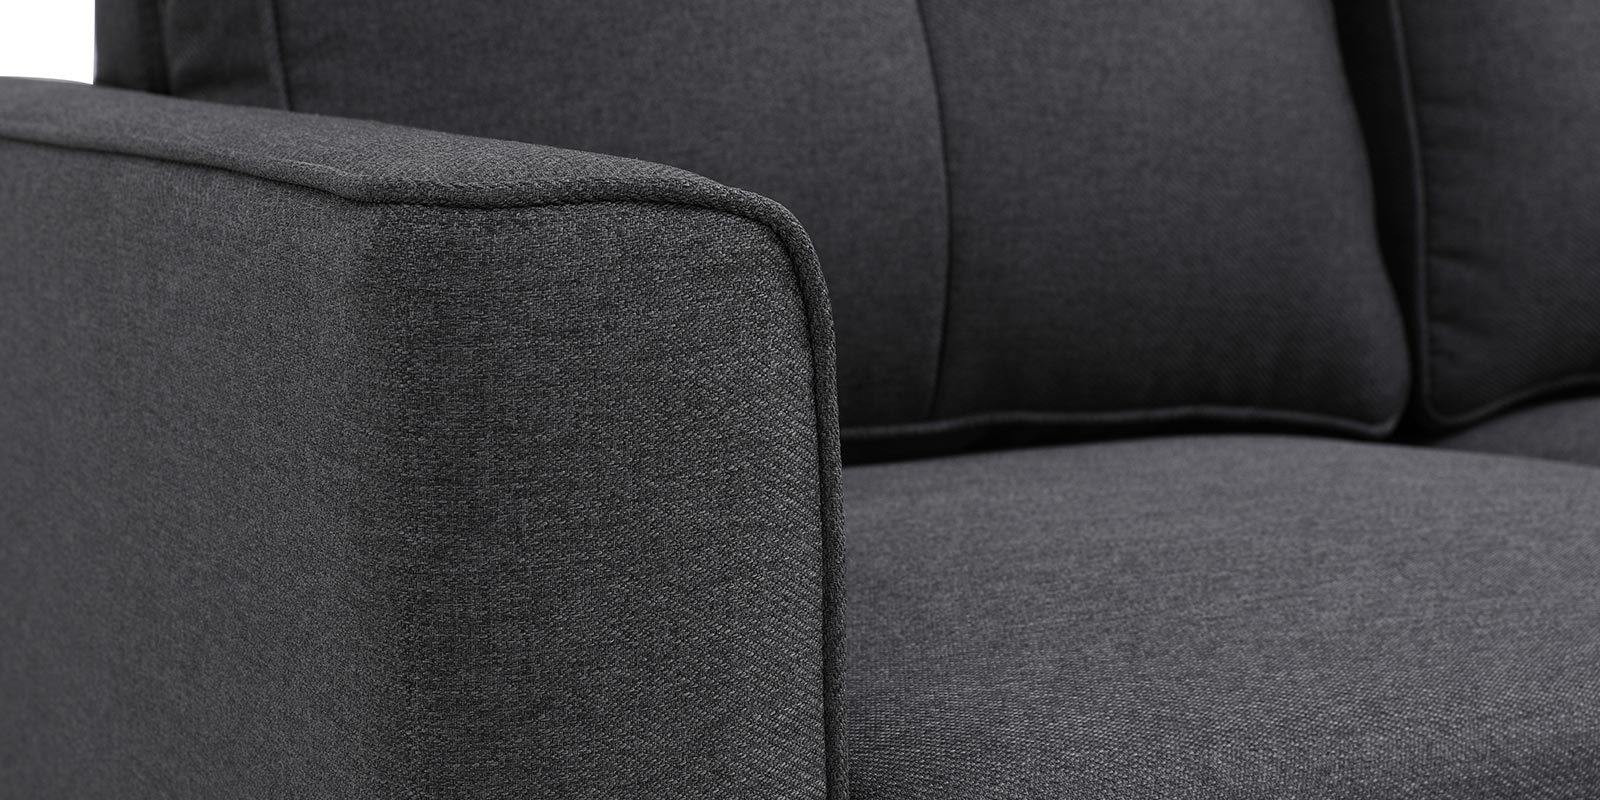Alice Three Seater Sofa in Grey Colour by Zofa: (6, 38, 1319, 746)
